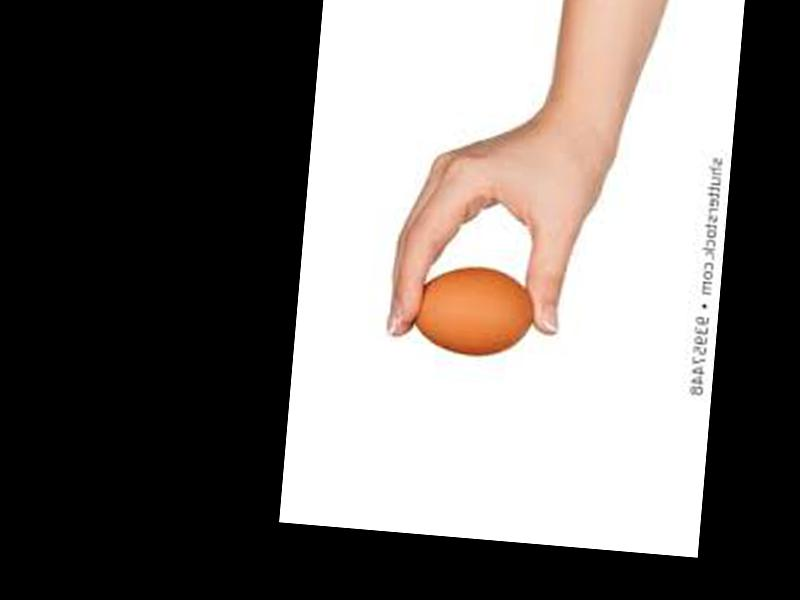Eggs: (405, 263, 537, 360)
